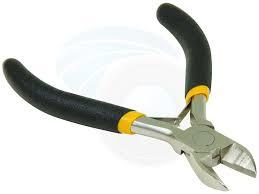pliers: (1, 1, 257, 191)
